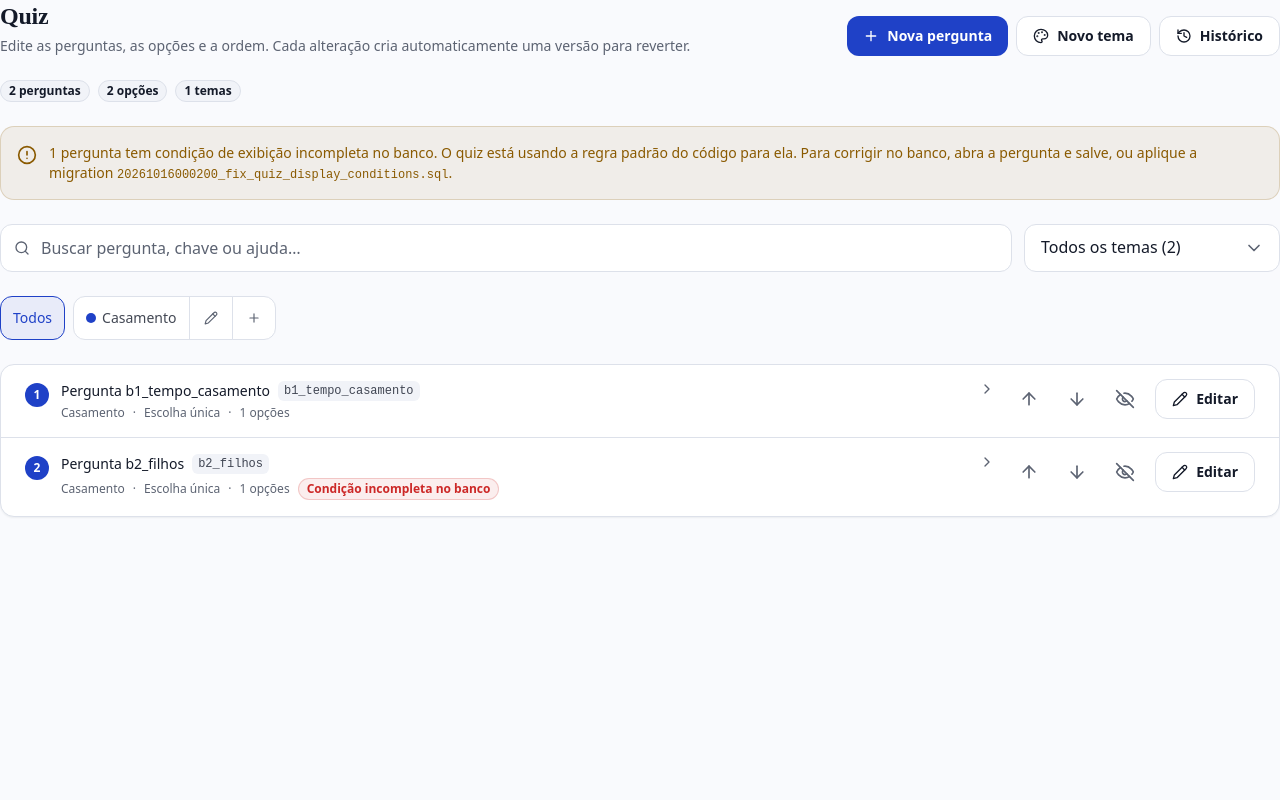
AdminQuizPage › Esc fecha o editor de tema
Click the button named "Editar tema Casamento" at (210, 318), box [188,296,232,340]
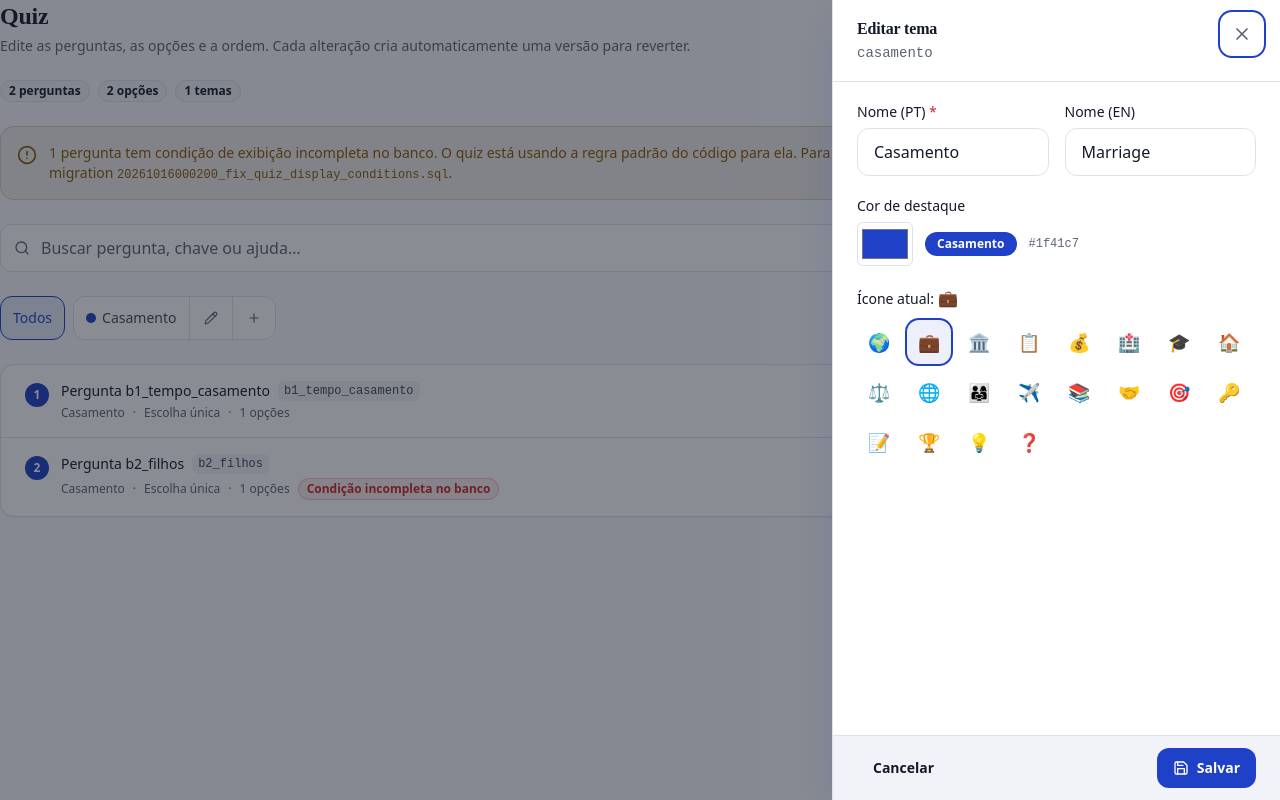
Expected: the dialog "Editar tema" is shown, [832,0,1279,799]
Press Escape
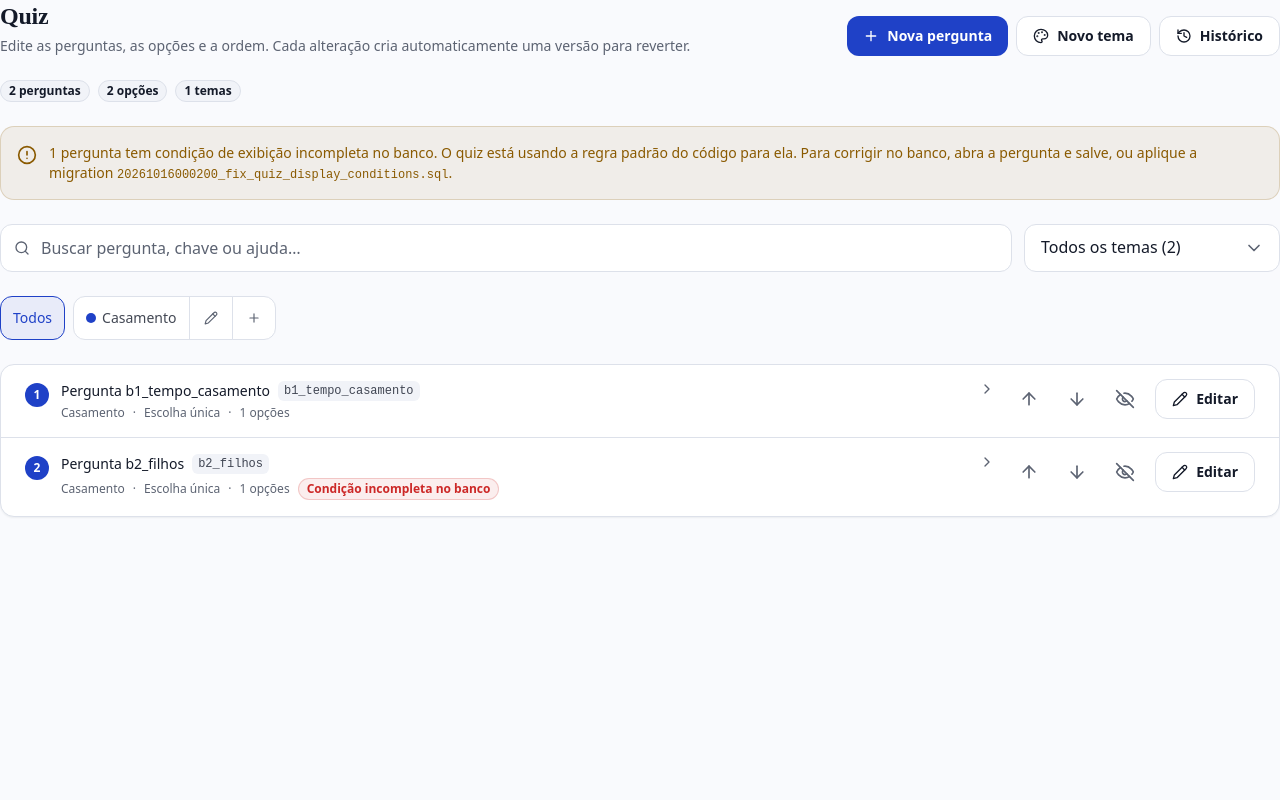
Expected: the dialog is gone
